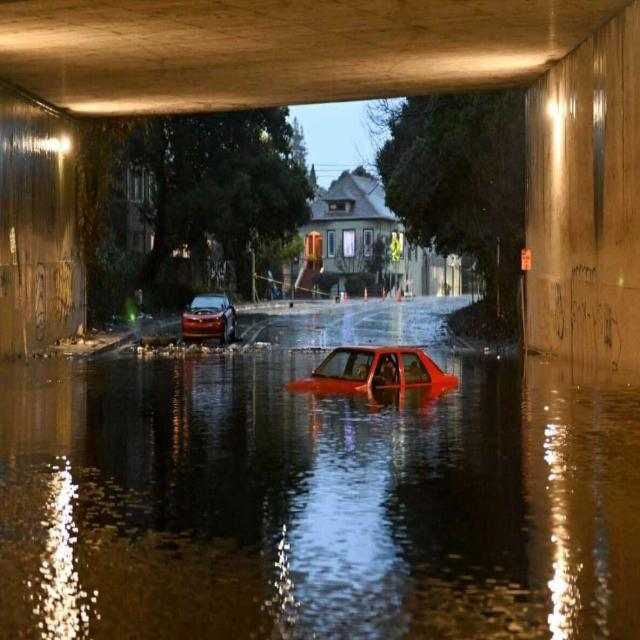water: (0, 348, 637, 639)
